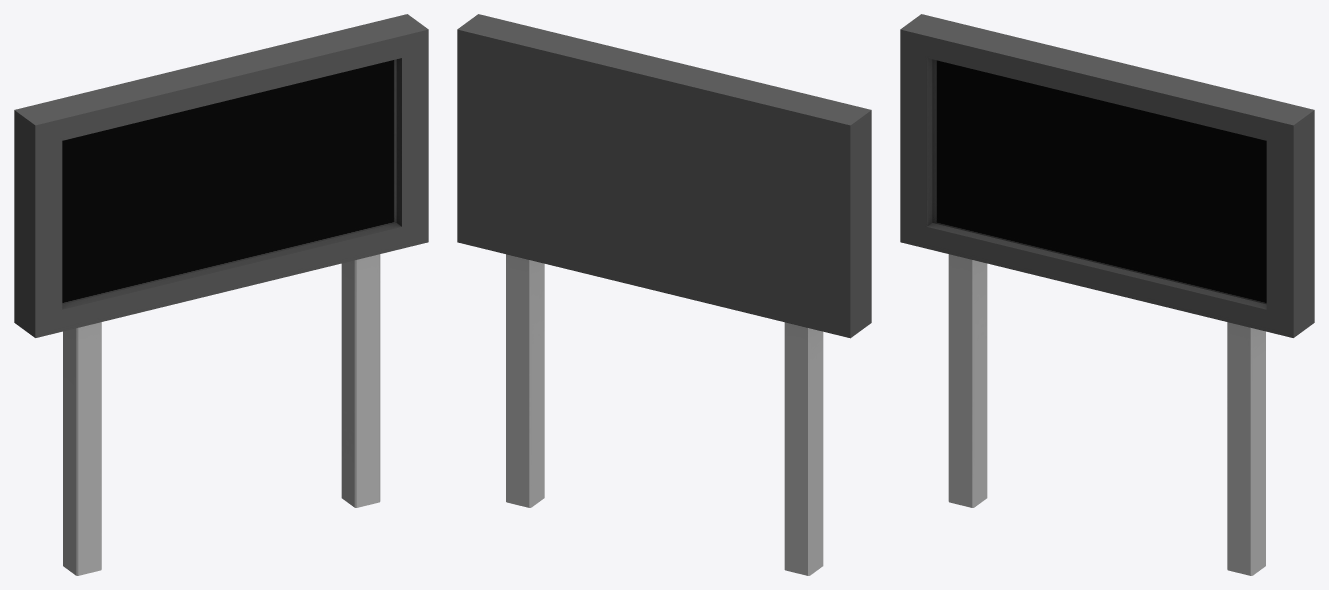
The model's file is screen.glb.
3 renders of one model, left to right at view 1: azimuth 30°, elevation 25°; view 2: azimuth 150°, elevation 25°; view 3: azimuth 330°, elevation 25°, orthographic.
Visible parts, largest first — view 1: Screen; view 2: Screen; view 3: Screen.
Part boxes in pixels (x1,y1,x2,y2): Screen: (14, 14, 428, 575); Screen: (457, 14, 871, 575); Screen: (900, 14, 1314, 575).
Bounding box in the file's own units: 14.12 × 15.91 × 1.32.
Materials: 1 (1 with a texture image).
